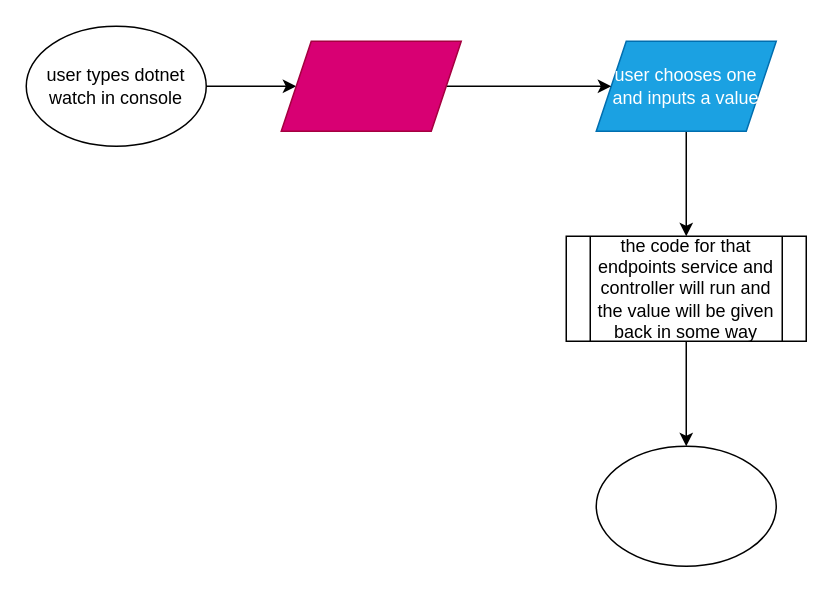
Image size: 833x593. Some labels were removed from this diagram. The shapes that lost their labels are listed below. From the top down, each one's centre as x and y in pixels, then its label:
At point (370, 85): "Swagger opens with 4 endpoints".
At point (685, 505): "user hits ctrl+C on theyre keybored".
